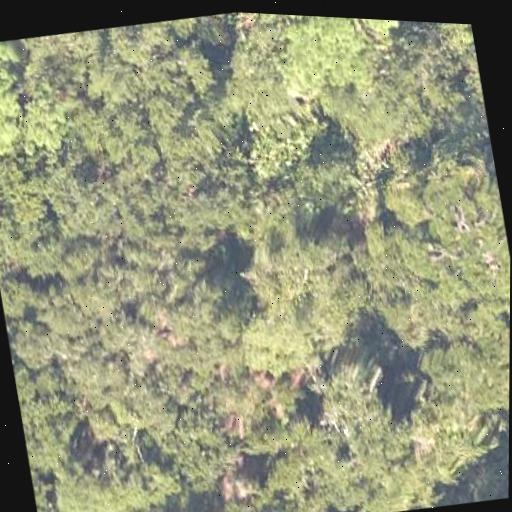tree-top: (79, 10, 222, 143), (235, 234, 367, 378), (259, 13, 397, 103), (0, 31, 77, 168), (312, 351, 407, 461), (42, 438, 181, 512), (36, 155, 128, 252), (283, 119, 359, 222), (179, 262, 257, 347), (376, 159, 447, 242), (180, 104, 238, 162), (8, 314, 62, 371), (257, 450, 303, 500), (284, 403, 324, 448), (461, 47, 485, 110), (432, 22, 474, 54)
